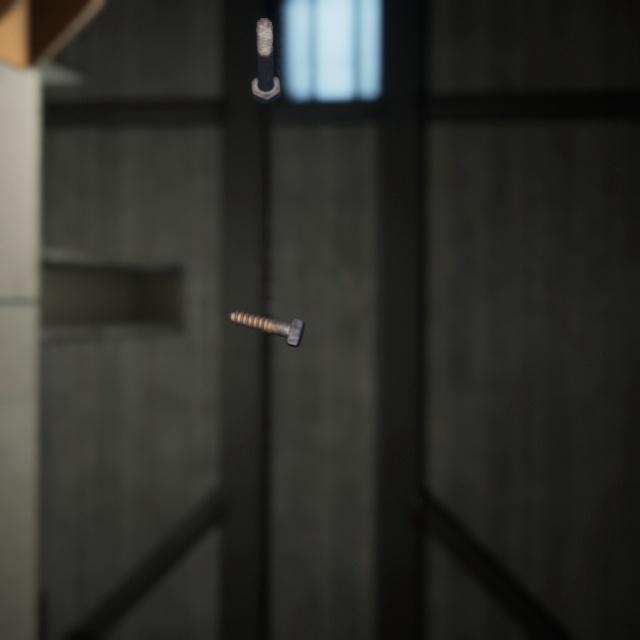bolt: (223, 286, 309, 333), (247, 2, 284, 98)
